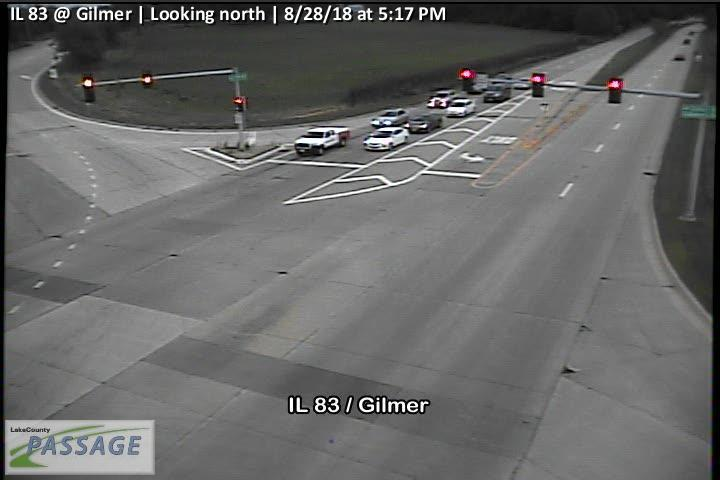SUV: (483, 83, 511, 104), (426, 90, 456, 109)
Sedan: (361, 126, 409, 152), (370, 107, 409, 129), (410, 113, 442, 135), (445, 98, 476, 117)
Truck: (294, 125, 351, 156)
